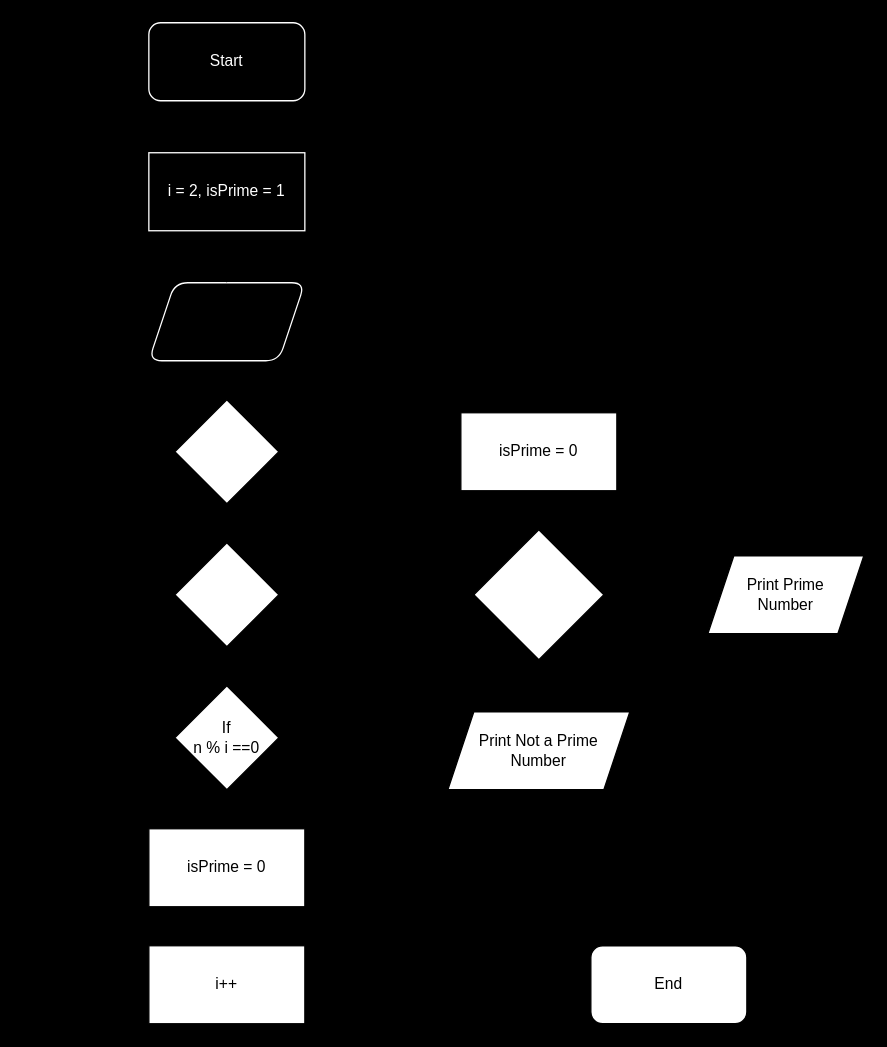
Some shapes in this 887 by 1047 pixel diagram are drawn without their labels. Each missing label, with the centre of its shape:
If i < n: the point at 226,594
If isPrime = 0: the point at 538,594
If n <= 1: the point at 226,451
Input n: the point at 226,321
